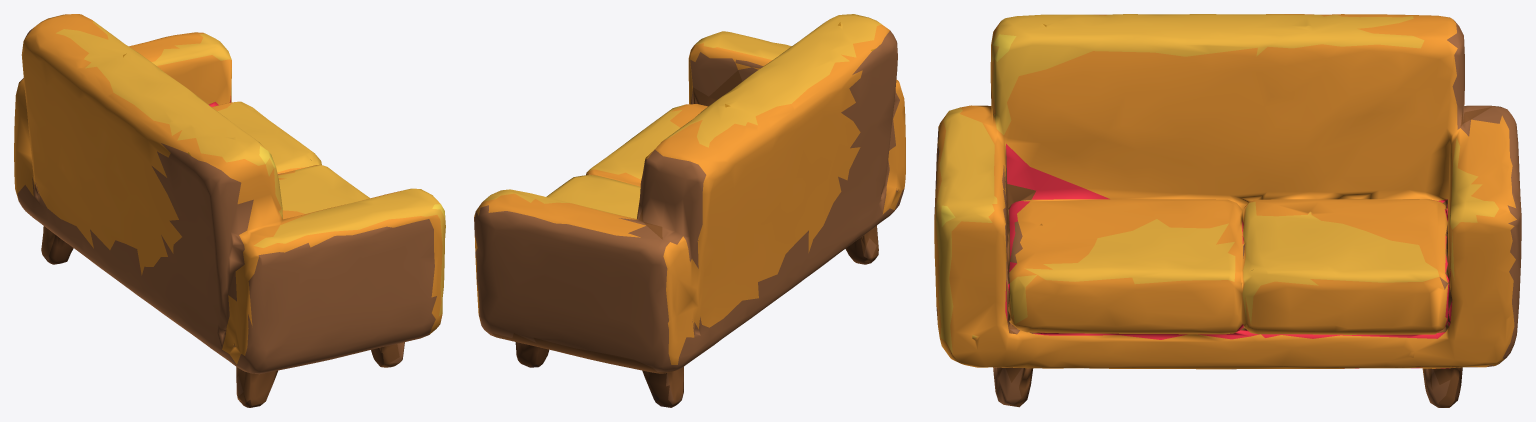
The model's file is SM_sofa_2seat_orange.fbx.
The picture shows the model from 3 angles, left to right: view 1: azimuth 30°, elevation 25°; view 2: azimuth 150°, elevation 25°; view 3: azimuth 270°, elevation 25°; orthographic projection. The views are drawn at different scales.
Parts seen in each view (by area): view 1: SM_sofa_2seat_orange; view 2: SM_sofa_2seat_orange; view 3: SM_sofa_2seat_orange.
Part boxes in pixels (x1,y1,x2,y2): SM_sofa_2seat_orange: (14,14,445,407); SM_sofa_2seat_orange: (474,14,905,407); SM_sofa_2seat_orange: (934,14,1521,407).
Bounding box in the file's own units: 74.2 × 80 × 142.
Materials: 1 (1 with a texture image).
